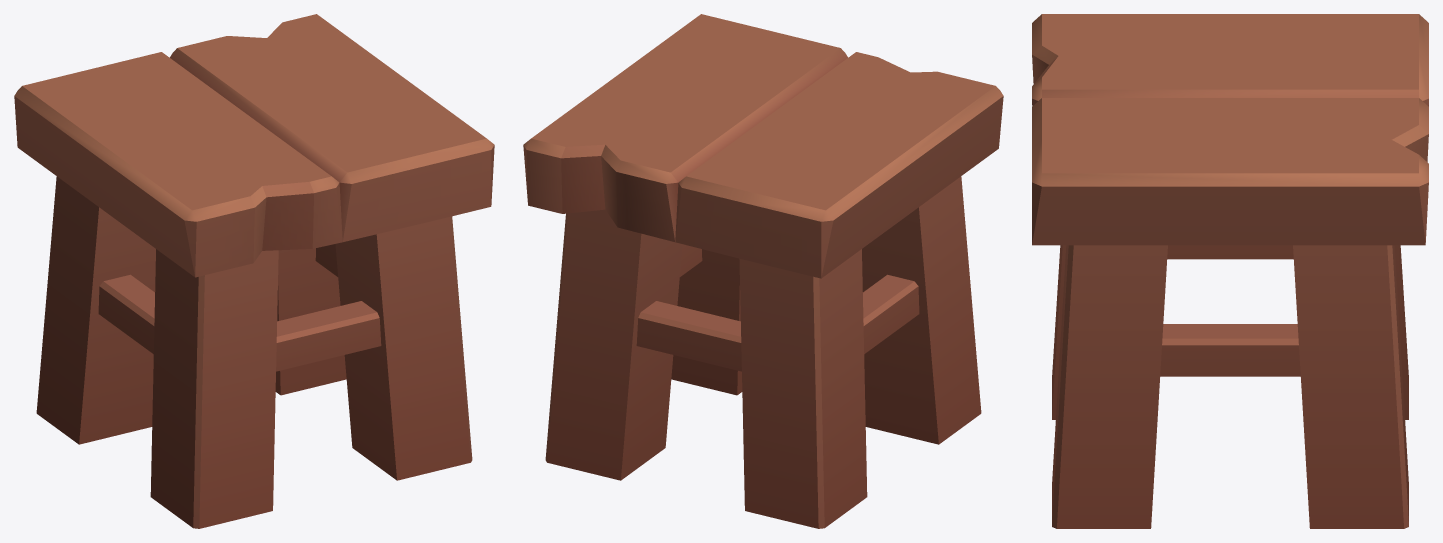
Rendered from table_small.gltf.
3 renders of one model, left to right at view 1: azimuth 30°, elevation 25°; view 2: azimuth 150°, elevation 25°; view 3: azimuth 270°, elevation 25°, orthographic. The views are drawn at different scales.
Parts seen in each view (by area): view 1: table_small; view 2: table_small; view 3: table_small.
Part boxes in pixels (x1,y1,x2,y2): table_small: (14, 14, 494, 528); table_small: (523, 14, 1003, 528); table_small: (1032, 14, 1428, 528).
Size of the model in its own units: 1 by 1 by 1.
1 material, 1 textured.
